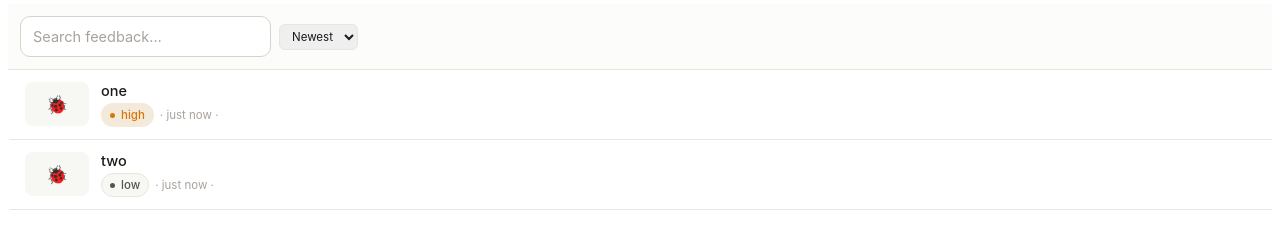
Test case: TriageList › search filters items
In the field with placeholder "Search feedback…": (146, 36) [33,17,258,56], type "two"
Wait 250 ms
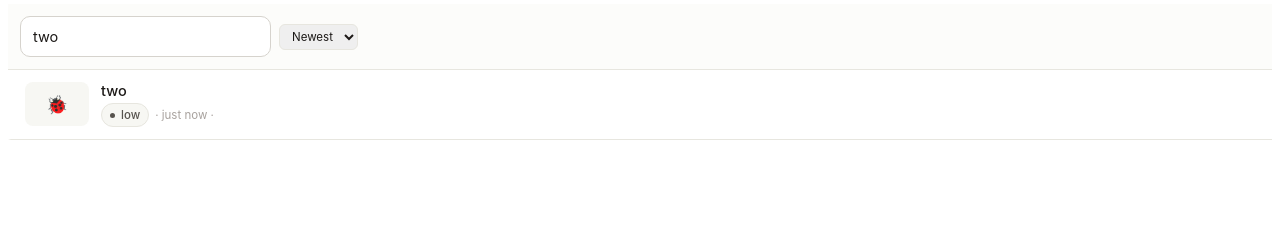
Expected: the text "two" is shown, [101,82,127,99]
Result: the button "one" is gone
